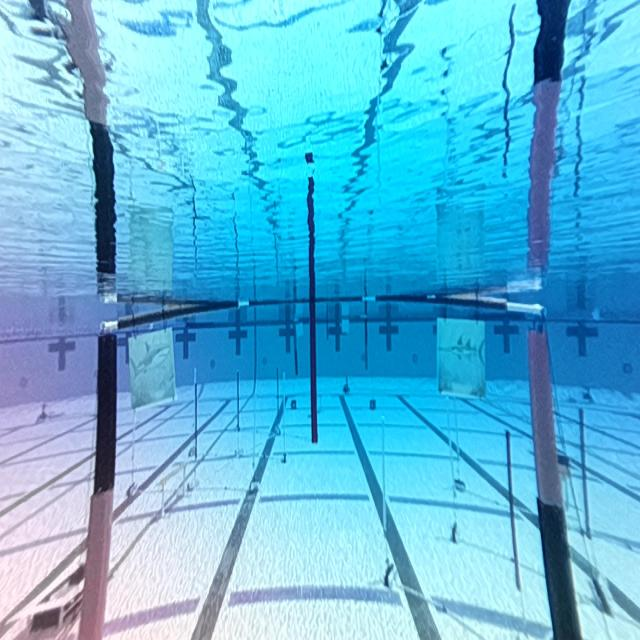pointed_nose: (437, 323, 488, 395)
round_nose: (128, 334, 172, 403)
